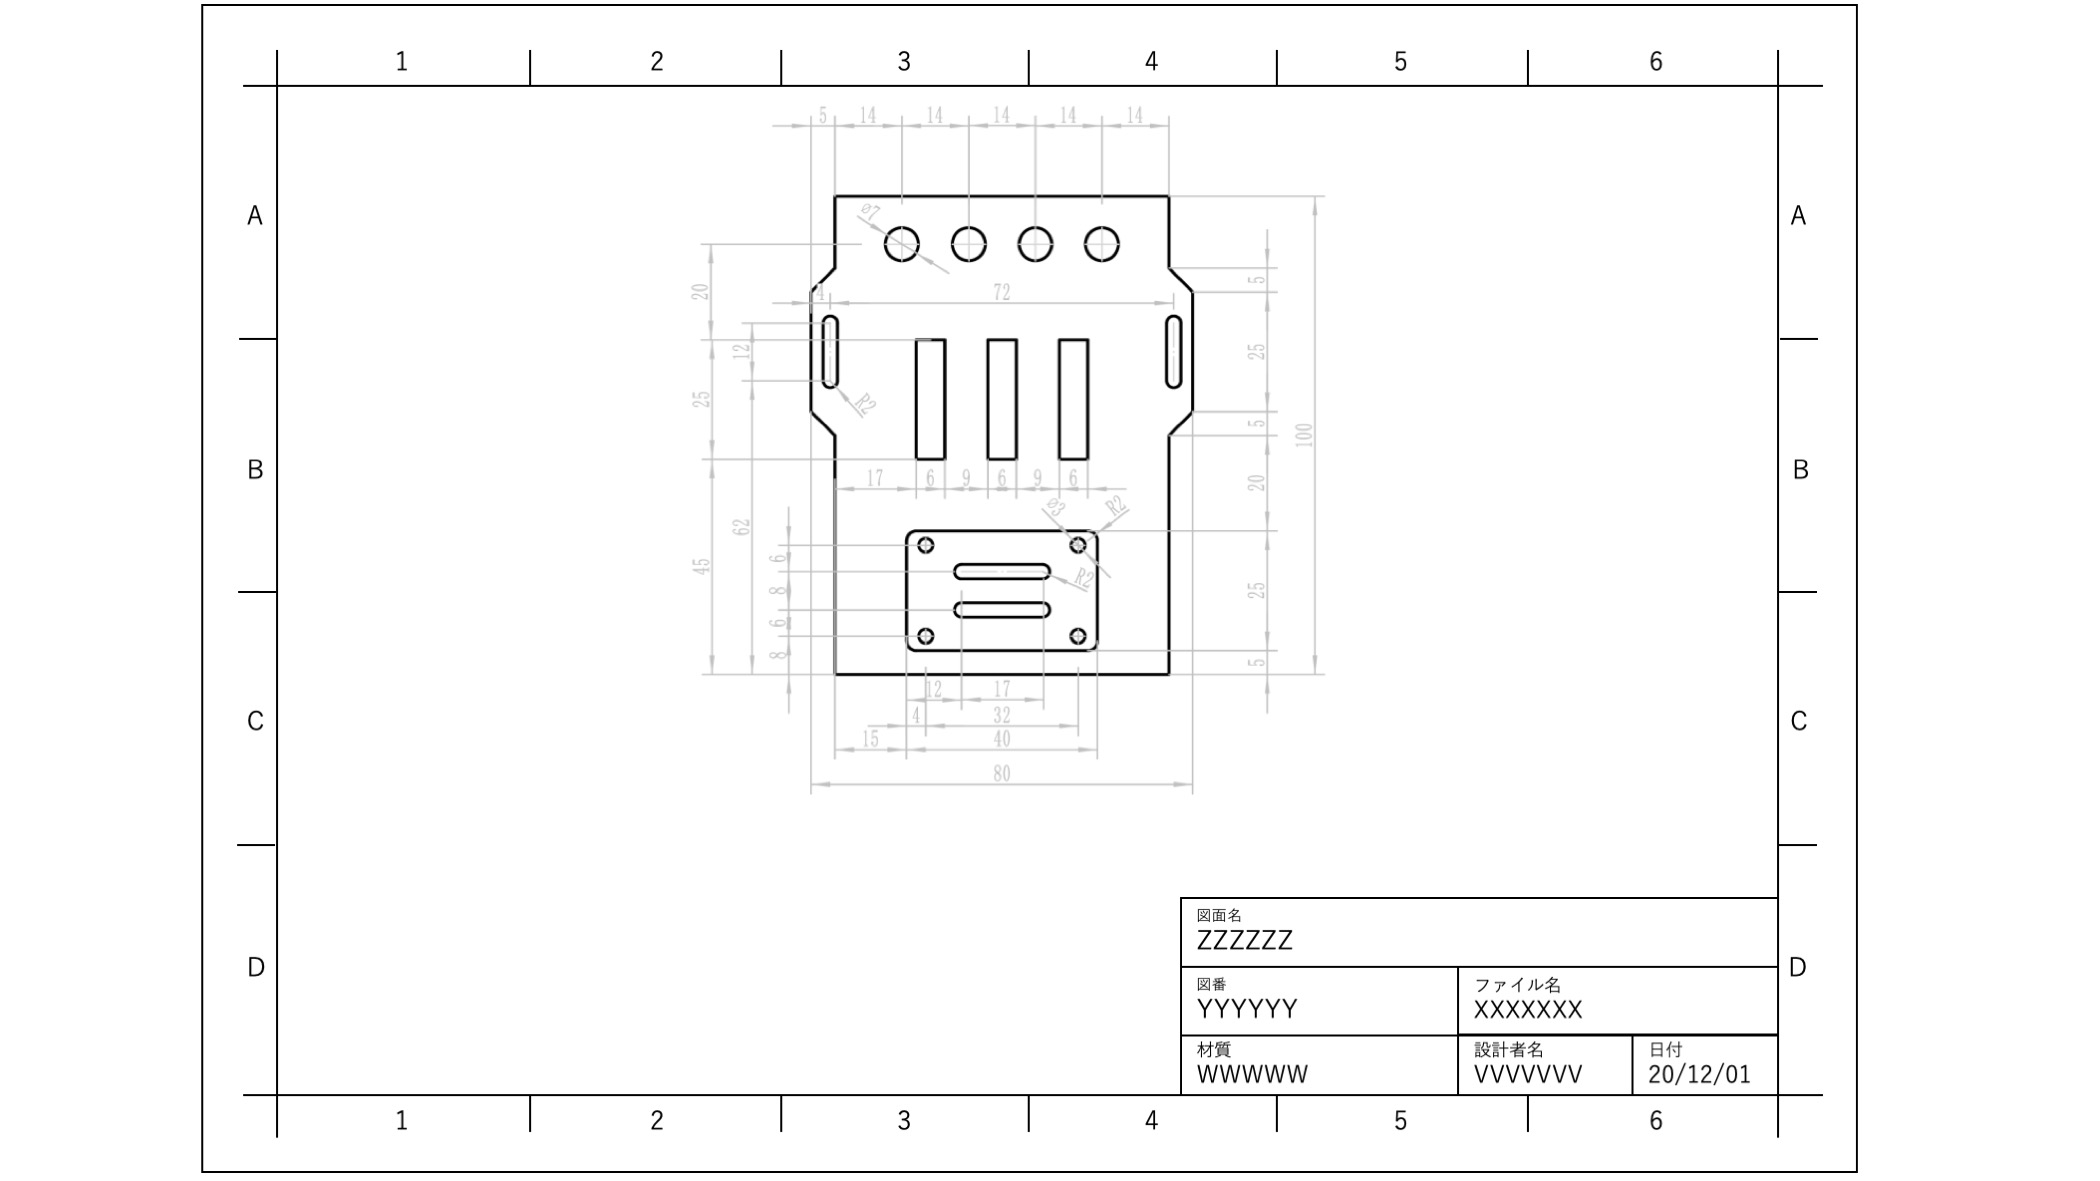circle: (877, 222, 923, 262), (946, 222, 989, 264), (1011, 224, 1054, 264), (1082, 222, 1121, 262), (1063, 535, 1087, 557), (913, 536, 939, 557), (1066, 626, 1089, 646), (912, 626, 936, 645)
rectangle: (979, 332, 1024, 466), (1051, 332, 1096, 464), (910, 332, 953, 461)
round_rectangle: (948, 596, 1056, 622), (946, 559, 1056, 584), (1160, 306, 1188, 389), (818, 311, 839, 394)
